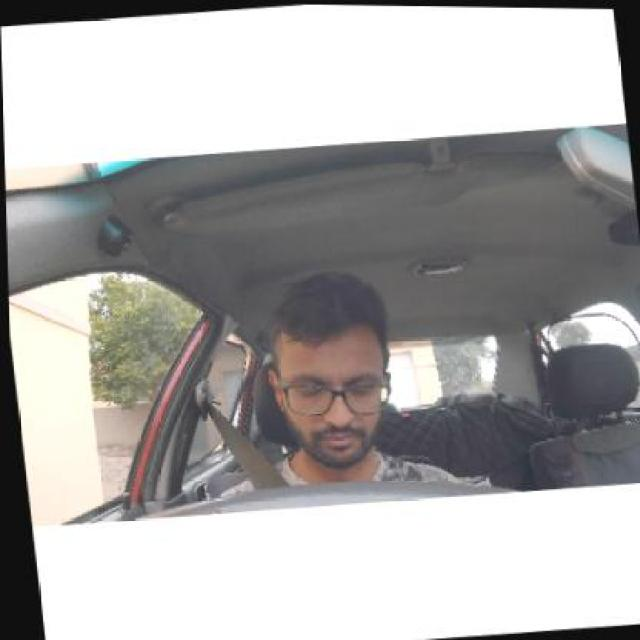drowsy: (241, 267, 440, 486)
